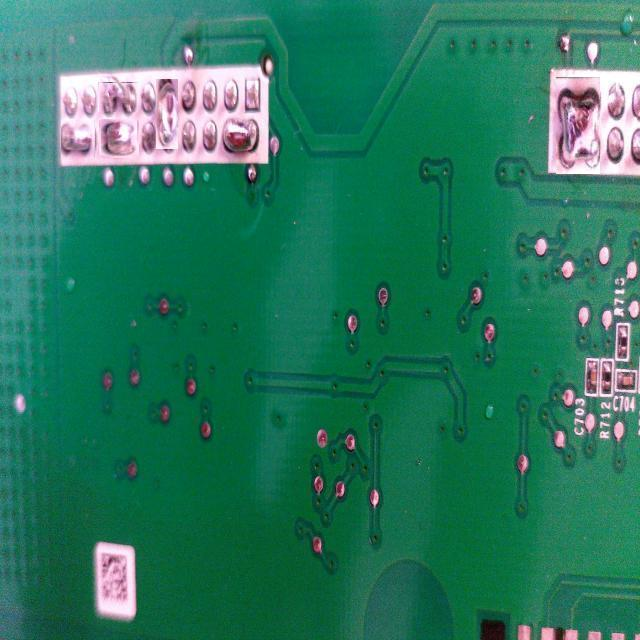Short_circuit: (556, 77, 600, 174), (222, 112, 262, 154), (156, 79, 178, 149), (100, 119, 138, 157), (61, 120, 95, 158), (98, 82, 138, 112)
